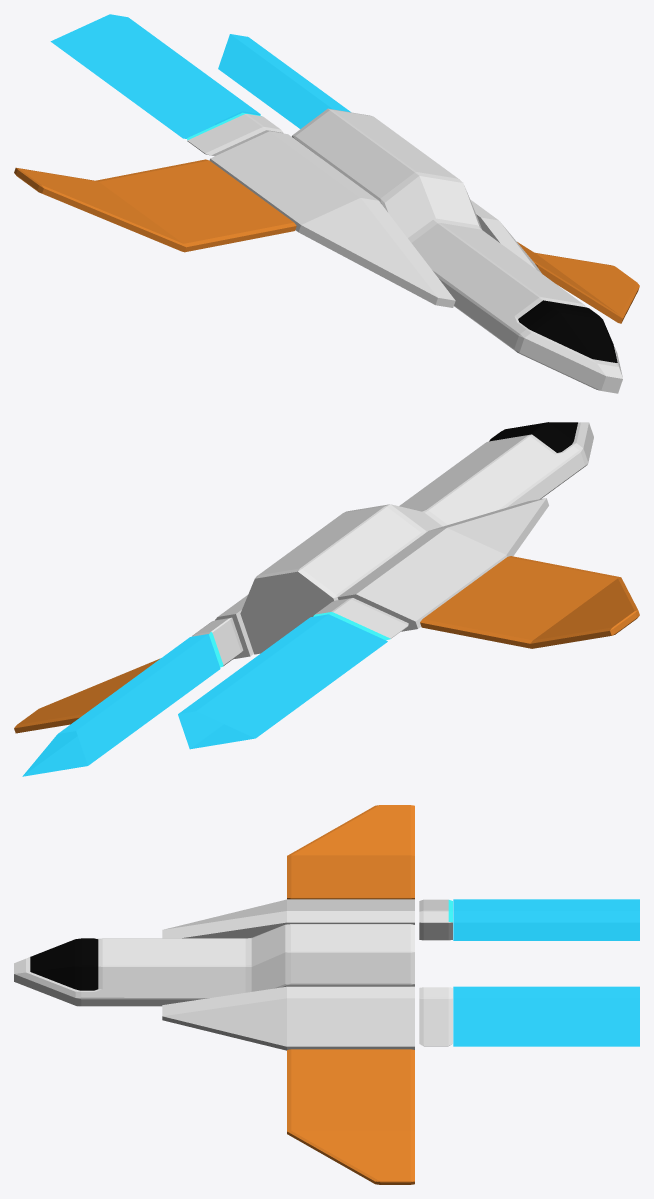
3 renders of one model, top to bottom at view 1: azimuth 30°, elevation 25°; view 2: azimuth 150°, elevation 25°; view 3: azimuth 270°, elevation 25°, orthographic. The views are drawn at different scales.
Visible parts, largest first — view 1: Plane.005, Plane.002, Plane.006, Plane.007, Plane, Plane.003; view 2: Plane.005, Plane.006, Plane.002, Plane.007, Plane.003, Plane; view 3: Plane.002, Plane.005, Plane.006, Plane.007, Plane.003, Plane.
Boxes of the visible parts, x1=… form: Plane.005: x1=292, y1=108, x2=622, y2=393; Plane.002: x1=14, y1=159, x2=639, y2=323; Plane.006: x1=50, y1=14, x2=350, y2=138; Plane.007: x1=209, y1=131, x2=541, y2=307; Plane: x1=518, y1=300, x2=617, y2=362; Plane.003: x1=187, y1=112, x2=283, y2=156; Plane.005: x1=240, y1=422, x2=593, y2=654; Plane.006: x1=22, y1=614, x2=387, y2=776; Plane.002: x1=14, y1=556, x2=639, y2=733; Plane.007: x1=215, y1=498, x2=548, y2=659; Plane.003: x1=192, y1=598, x2=408, y2=667; Plane: x1=489, y1=422, x2=577, y2=452; Plane.002: x1=287, y1=805, x2=414, y2=1184; Plane.005: x1=14, y1=924, x2=414, y2=1006; Plane.006: x1=453, y1=899, x2=639, y2=1046; Plane.007: x1=162, y1=899, x2=414, y2=1050; Plane.003: x1=419, y1=899, x2=452, y2=1046; Plane: x1=30, y1=938, x2=98, y2=990.
Size of the model in its own units: 5.59 by 2.23 by 7.18.
